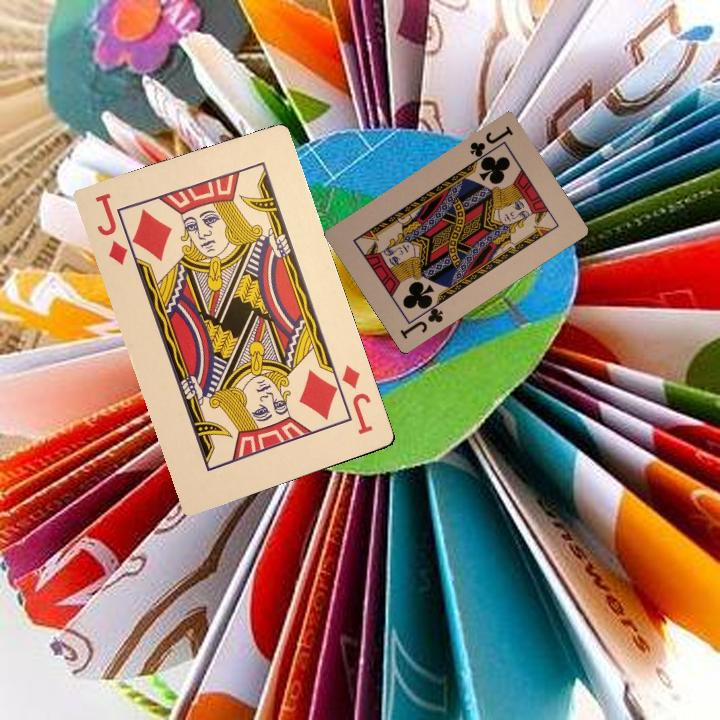Jc: (465, 122, 516, 166), (396, 298, 446, 342)
Jd: (90, 189, 141, 268), (337, 361, 376, 437)
